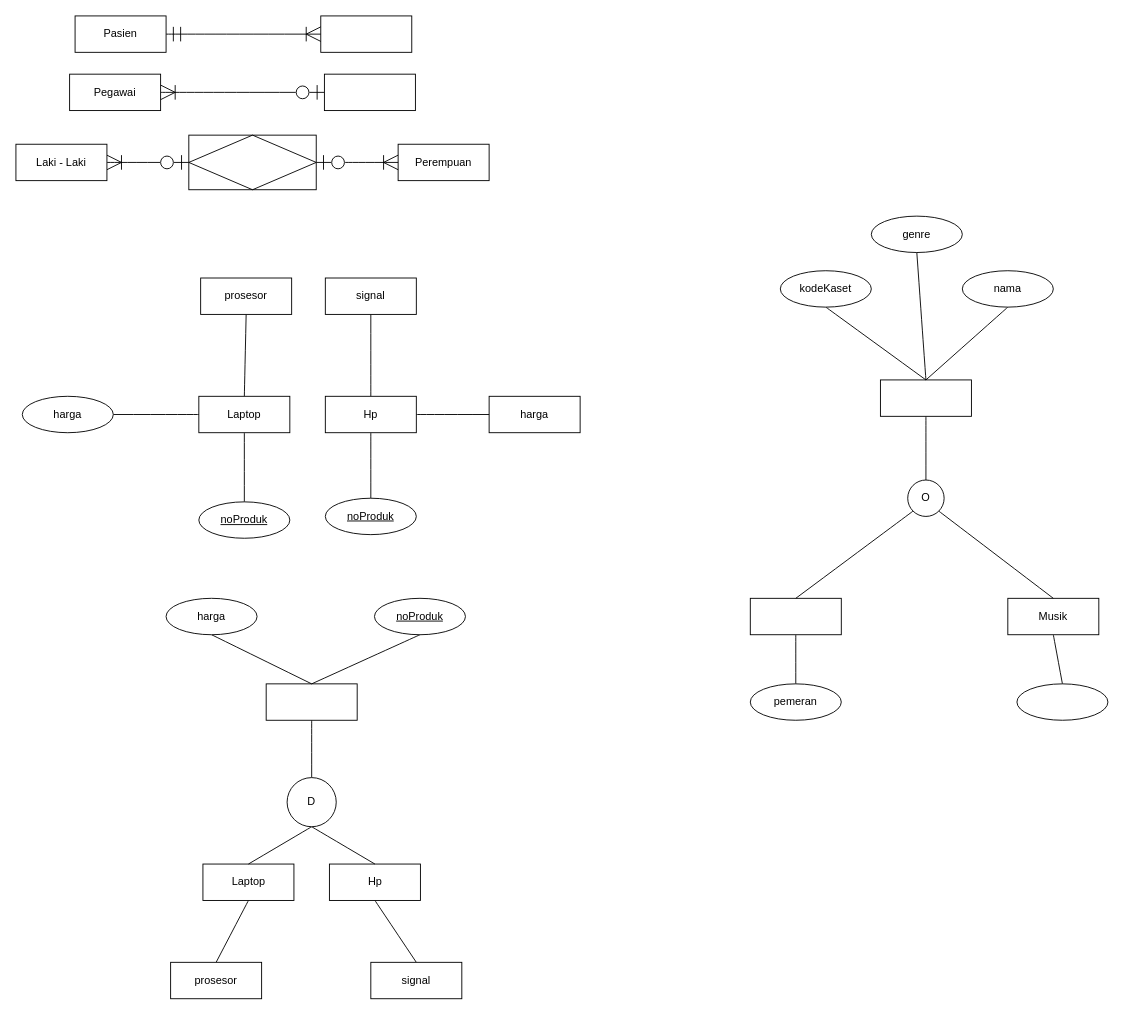
Image size: 1124x1015. Some labels were removed from this diagram. Each missing label, with the centre of its shape:
"band" goes at [1062,701].
"Film" goes at [795,616].
"Gatget" goes at [311,701].
"Kaset" goes at [925,397].
"Menikah" goes at [252,162].
"Project" goes at [369,92].
"Sejarah Kesehatan" goes at [366,33].
